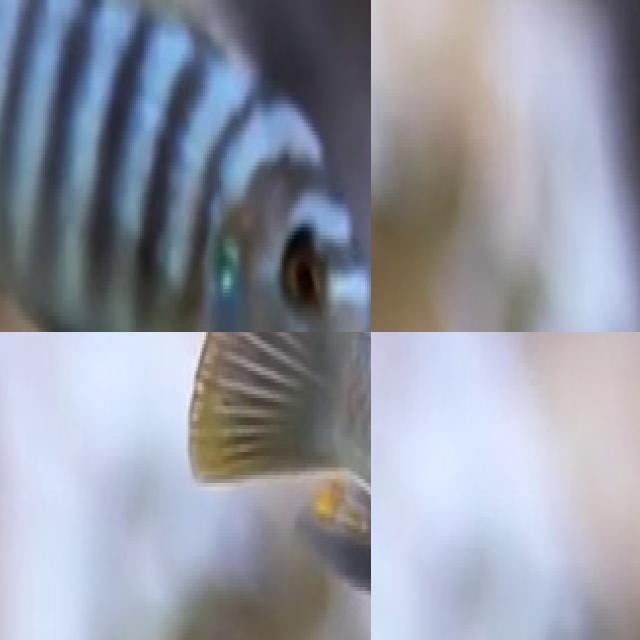fish: (0, 0, 371, 332), (178, 332, 371, 640)
